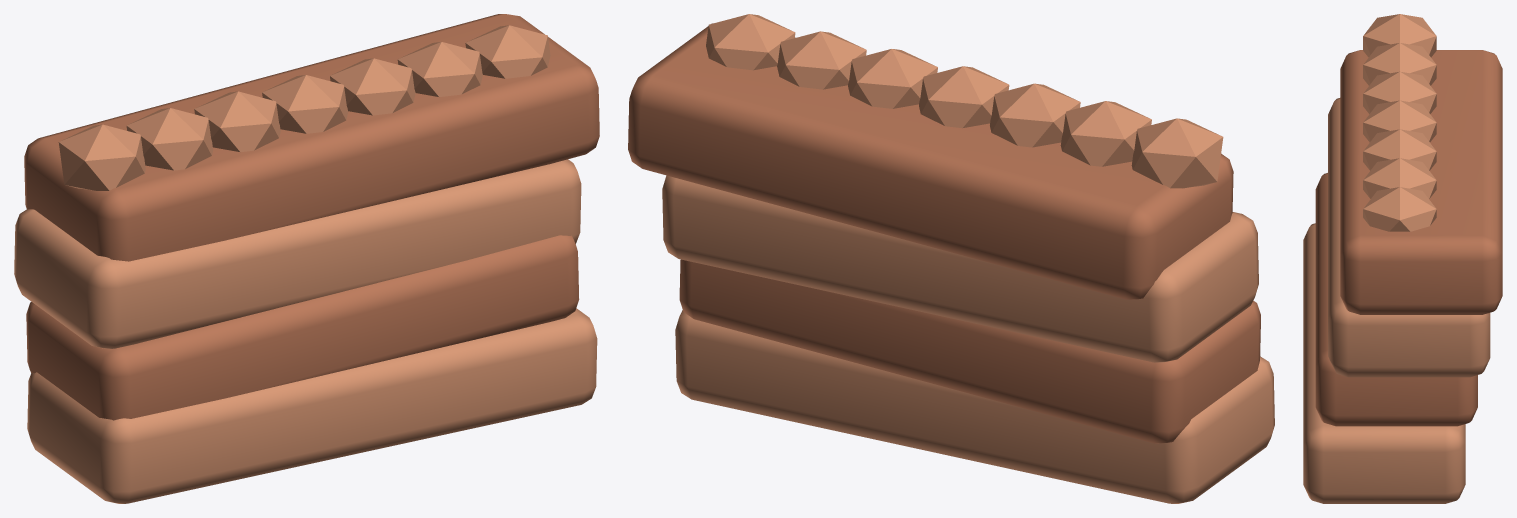
Rendered from Cliff_01.glb.
3 renders of one model, left to right at view 1: azimuth 30°, elevation 25°; view 2: azimuth 150°, elevation 25°; view 3: azimuth 270°, elevation 25°, orthographic. The views are drawn at different scales.
Visible parts, largest first — view 1: Sedimentary cliff layer.003, Sedimentary cliff layer, Sedimentary cliff layer.002, Sedimentary cliff layer.001, Cliff top rubble, Cliff top rubble.001, Cliff top rubble.002, Cliff top rubble.003, Cliff top rubble.004, Cliff top rubble.005, Cliff top rubble.006; view 2: Sedimentary cliff layer.003, Sedimentary cliff layer.002, Sedimentary cliff layer, Sedimentary cliff layer.001, Cliff top rubble, Cliff top rubble.001, Cliff top rubble.002, Cliff top rubble.003, Cliff top rubble.004, Cliff top rubble.005, Cliff top rubble.006; view 3: Sedimentary cliff layer.003, Sedimentary cliff layer, Sedimentary cliff layer.002, Sedimentary cliff layer.001, Cliff top rubble.006, Cliff top rubble, Cliff top rubble.001, Cliff top rubble.002, Cliff top rubble.003, Cliff top rubble.004, Cliff top rubble.005.
Part boxes in pixels (left/top/right/bottom): Sedimentary cliff layer.003: left=24, top=14, right=599, bottom=261; Sedimentary cliff layer: left=27, top=308, right=597, bottom=503; Sedimentary cliff layer.002: left=14, top=159, right=581, bottom=348; Sedimentary cliff layer.001: left=26, top=235, right=579, bottom=420; Cliff top rubble: left=58, top=124, right=145, bottom=190; Cliff top rubble.001: left=126, top=108, right=213, bottom=170; Cliff top rubble.002: left=194, top=91, right=280, bottom=152; Cliff top rubble.003: left=262, top=75, right=347, bottom=133; Cliff top rubble.004: left=330, top=58, right=415, bottom=115; Cliff top rubble.005: left=397, top=42, right=482, bottom=96; Cliff top rubble.006: left=465, top=25, right=550, bottom=78; Sedimentary cliff layer.003: left=628, top=23, right=1233, bottom=299; Sedimentary cliff layer.002: left=662, top=175, right=1258, bottom=362; Sedimentary cliff layer: left=675, top=310, right=1274, bottom=503; Sedimentary cliff layer.001: left=679, top=259, right=1260, bottom=443; Cliff top rubble: left=1131, top=118, right=1223, bottom=188; Cliff top rubble.001: left=1060, top=101, right=1151, bottom=166; Cliff top rubble.002: left=990, top=83, right=1080, bottom=147; Cliff top rubble.003: left=919, top=66, right=1009, bottom=128; Cliff top rubble.004: left=848, top=49, right=937, bottom=108; Cliff top rubble.005: left=777, top=31, right=866, bottom=89; Cliff top rubble.006: left=706, top=14, right=795, bottom=70; Sedimentary cliff layer.003: left=1340, top=50, right=1502, bottom=314; Sedimentary cliff layer: left=1303, top=223, right=1465, bottom=503; Sedimentary cliff layer.002: left=1328, top=98, right=1490, bottom=377; Sedimentary cliff layer.001: left=1315, top=173, right=1477, bottom=426; Cliff top rubble.006: left=1363, top=187, right=1436, bottom=231; Cliff top rubble: left=1363, top=14, right=1436, bottom=57; Cliff top rubble.001: left=1363, top=43, right=1436, bottom=85; Cliff top rubble.002: left=1363, top=71, right=1436, bottom=113; Cliff top rubble.003: left=1363, top=100, right=1436, bottom=142; Cliff top rubble.004: left=1363, top=129, right=1436, bottom=170; Cliff top rubble.005: left=1363, top=158, right=1436, bottom=198.
Bounding box in the file's own units: 3.39 × 2.2 × 1.29.
